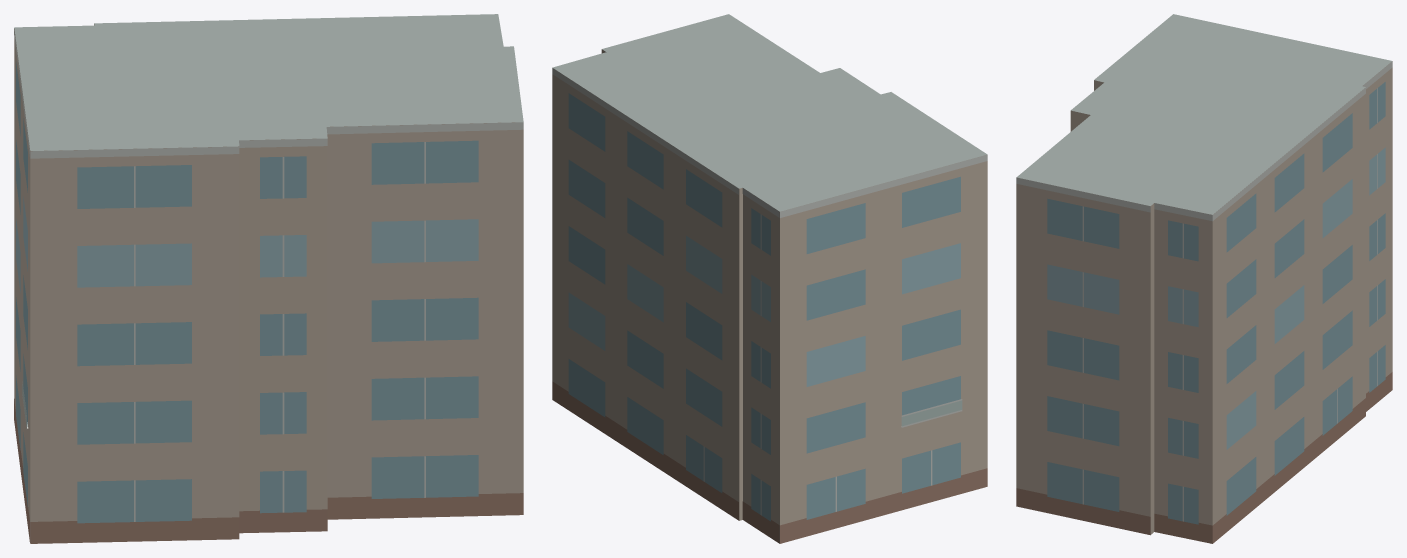
File: survey-upis-32626319.glb
The picture shows the model from 3 angles, left to right: view 1: azimuth 30°, elevation 25°; view 2: azimuth 150°, elevation 25°; view 3: azimuth 270°, elevation 25°; orthographic projection. The views are drawn at different scales.
Visible parts, largest first — view 1: survey-upis-32626319.tmp; view 2: survey-upis-32626319.tmp; view 3: survey-upis-32626319.tmp.
Boxes of the visible parts, x1,y1,x2,y2 form: survey-upis-32626319.tmp: (14, 14, 523, 543); survey-upis-32626319.tmp: (552, 14, 987, 543); survey-upis-32626319.tmp: (1016, 14, 1392, 543).
Bounding box in the file's own units: 16.51 × 12.6 × 13.07.
